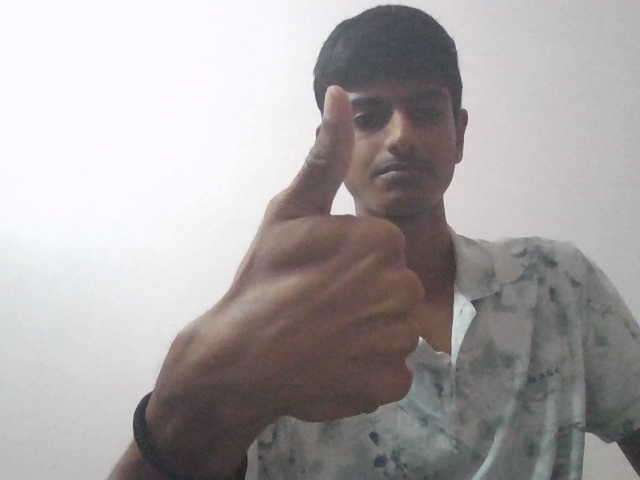thanks: (144, 65, 426, 429)
